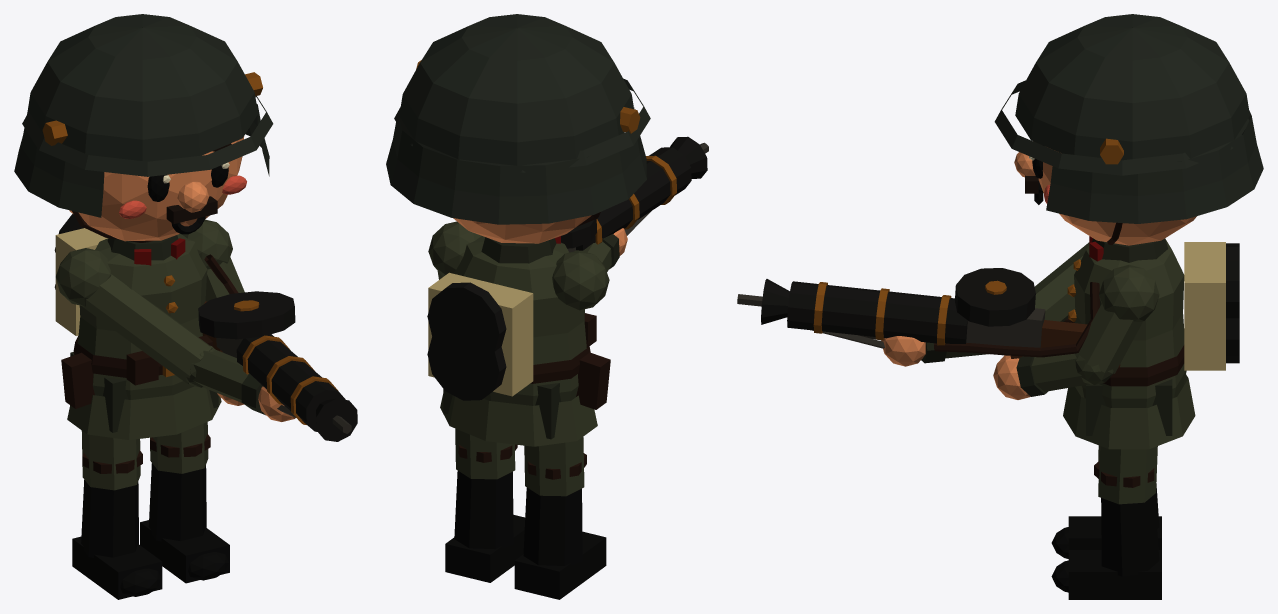
File: Ametrallador_CascoAcero.obj
3 renders of one model, left to right at view 1: azimuth 30°, elevation 25°; view 2: azimuth 150°, elevation 25°; view 3: azimuth 270°, elevation 25°, orthographic. The views are drawn at different scales.
Visible parts, largest first — view 1: Cuerpo, Pierna_I, Pierna_D; view 2: Cuerpo, Pierna_I, Pierna_D; view 3: Cuerpo, Pierna_D, Pierna_I.
Boxes of the visible parts, x1,y1,x2,y2 form: Cuerpo: (14,14,357,441); Pierna_I: (72,430,162,599); Pierna_D: (140,422,229,583); Cuerpo: (386,14,708,446); Pierna_I: (514,437,606,599); Pierna_D: (445,428,525,582); Cuerpo: (737,14,1263,449); Pierna_D: (1051,446,1161,599); Pierna_I: (1051,445,1161,558).
Size of the model in its own units: 0.7592 by 1.75 by 1.53.
